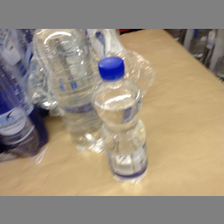water: (31, 29, 104, 152), (91, 56, 149, 185)
